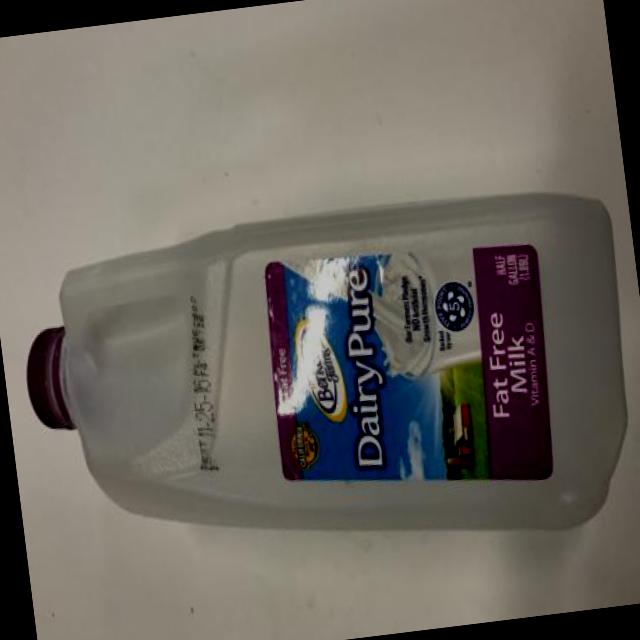Recycle: (10, 175, 640, 595)
